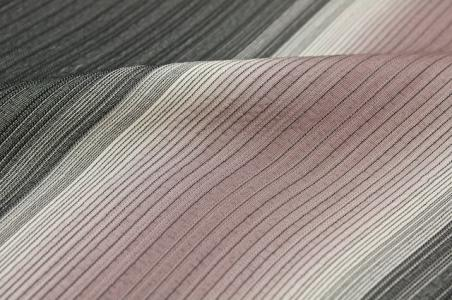flexible: (1, 1, 452, 299)
